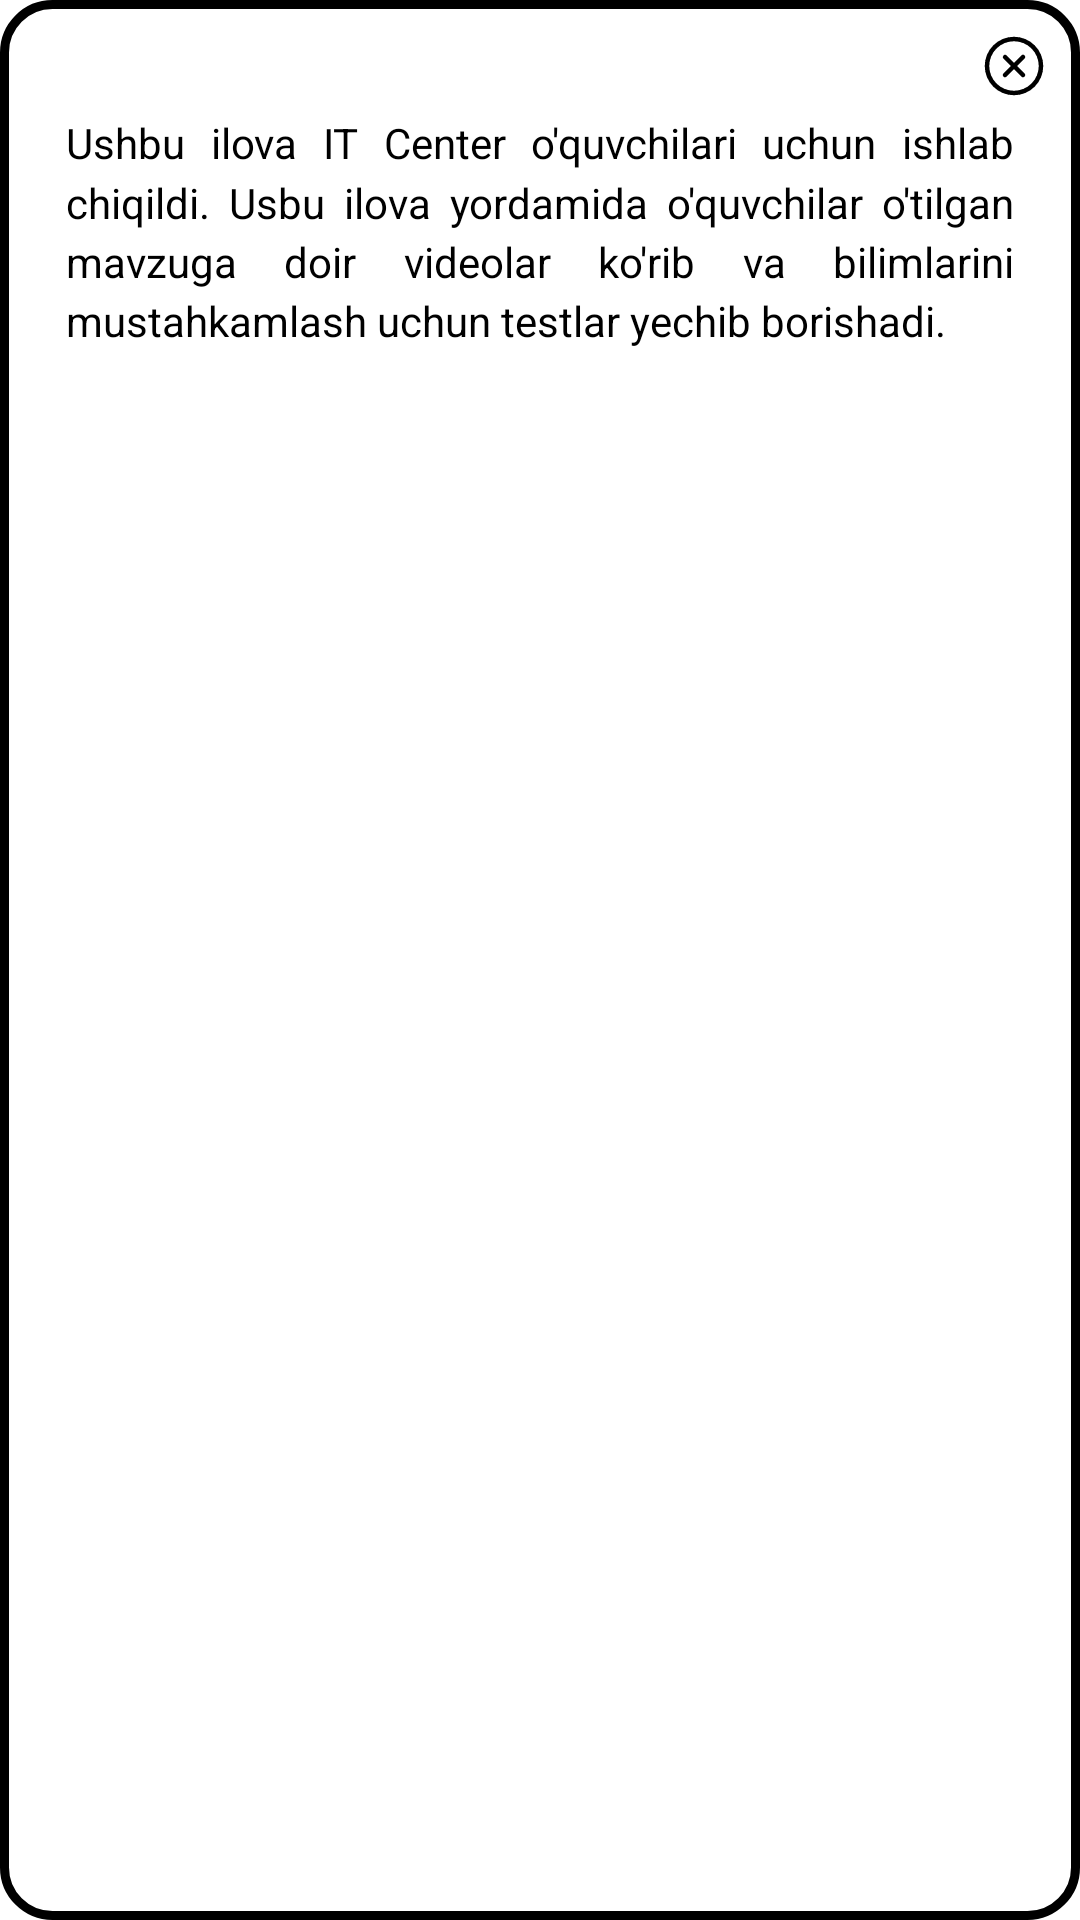

Icons on this 1080px×1920px Android screen, each with its box as (x1, y1, x2, y2):
exit: (984, 36, 1044, 96)
